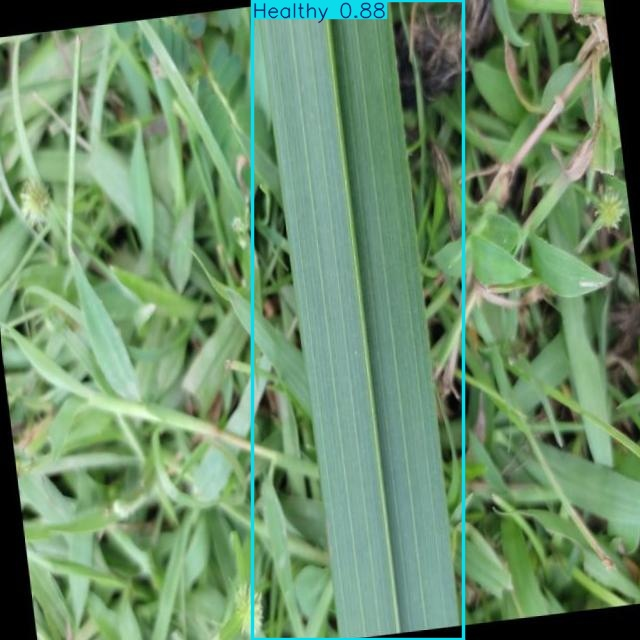Healthy: (253, 1, 464, 639)
